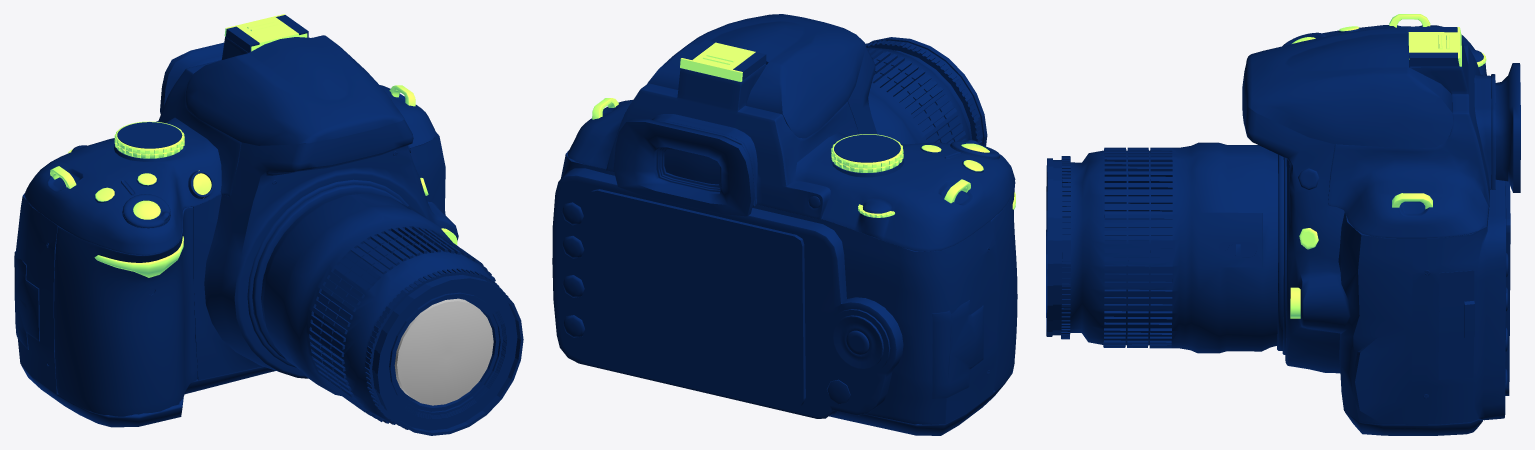
Rendered from Camera.fbx.
The picture shows the model from 3 angles, left to right: view 1: azimuth 30°, elevation 25°; view 2: azimuth 150°, elevation 25°; view 3: azimuth 270°, elevation 25°; orthographic projection. The views are drawn at different scales.
Parts seen in each view (by area): view 1: _0_corpo.001, Layer0_001, _0_Grip.001, Layer0_001_1_2, Group_007, _0_Metallo1.001, _0_bottom.001, _0_Plastica_nera_lucida1.001, _0_Sportello_Card.001, Layer0_001_1, _0_rotella_top1.001, _0_Gomma.001 (+3 smaller); view 2: _0_corpo.001, _0_Schermo.001, Layer0_001, _0_Gomma.001, _0_Sportello_Card.001, _0_Grip.001, _0_Tasti_retro.001, _0_Plastica_nera_lucida1.001, _0_bottom.001, _0_Frecce.001, _0_rotella_top1.001, _0_Lente.001 (+3 smaller); view 3: _0_corpo.001, Layer0_001, _0_Sportello_gomma.001, Layer0_001_1_2, _0_Gomma.001, _0_Metallo1.001, _0_Plastica_nera_lucida1.001, _0_bottom.001.
Boxes of the visible parts, x1=… form: _0_corpo.001: x1=14, y1=35, x2=458, y2=394; Layer0_001: x1=261, y1=193, x2=508, y2=429; _0_Grip.001: x1=54, y1=207, x2=197, y2=416; Layer0_001_1_2: x1=372, y1=275, x2=523, y2=435; Group_007: x1=394, y1=298, x2=493, y2=405; _0_Metallo1.001: x1=226, y1=15, x2=408, y2=367; _0_bottom.001: x1=21, y1=365, x2=275, y2=427; _0_Plastica_nera_lucida1.001: x1=50, y1=14, x2=457, y2=244; _0_Sportello_Card.001: x1=14, y1=251, x2=39, y2=349; Layer0_001_1: x1=392, y1=295, x2=499, y2=411; _0_rotella_top1.001: x1=118, y1=122, x2=181, y2=148; _0_Gomma.001: x1=160, y1=42, x2=223, y2=114; _0_corpo.001: x1=552, y1=14, x2=1015, y2=424; _0_Schermo.001: x1=599, y1=200, x2=794, y2=396; Layer0_001: x1=865, y1=40, x2=982, y2=144; _0_Gomma.001: x1=613, y1=119, x2=754, y2=216; _0_Sportello_Card.001: x1=932, y1=300, x2=983, y2=398; _0_Grip.001: x1=939, y1=182, x2=1017, y2=390; _0_Tasti_retro.001: x1=561, y1=196, x2=869, y2=403; _0_Plastica_nera_lucida1.001: x1=592, y1=42, x2=970, y2=217; _0_bottom.001: x1=656, y1=120, x2=1014, y2=435; _0_Frecce.001: x1=832, y1=315, x2=883, y2=369; _0_rotella_top1.001: x1=834, y1=134, x2=899, y2=162; _0_Lente.001: x1=664, y1=149, x2=720, y2=184; _0_corpo.001: x1=1242, y1=25, x2=1510, y2=424; Layer0_001: x1=1061, y1=142, x2=1278, y2=353; _0_Sportello_gomma.001: x1=1438, y1=270, x2=1474, y2=379; Layer0_001_1_2: x1=1046, y1=158, x2=1062, y2=336; _0_Gomma.001: x1=1495, y1=63, x2=1520, y2=192; _0_Metallo1.001: x1=1277, y1=27, x2=1459, y2=354; _0_Plastica_nera_lucida1.001: x1=1290, y1=14, x2=1486, y2=318; _0_bottom.001: x1=1345, y1=74, x2=1495, y2=435.
Bounding box in the file's own units: 245 × 184 × 243.
